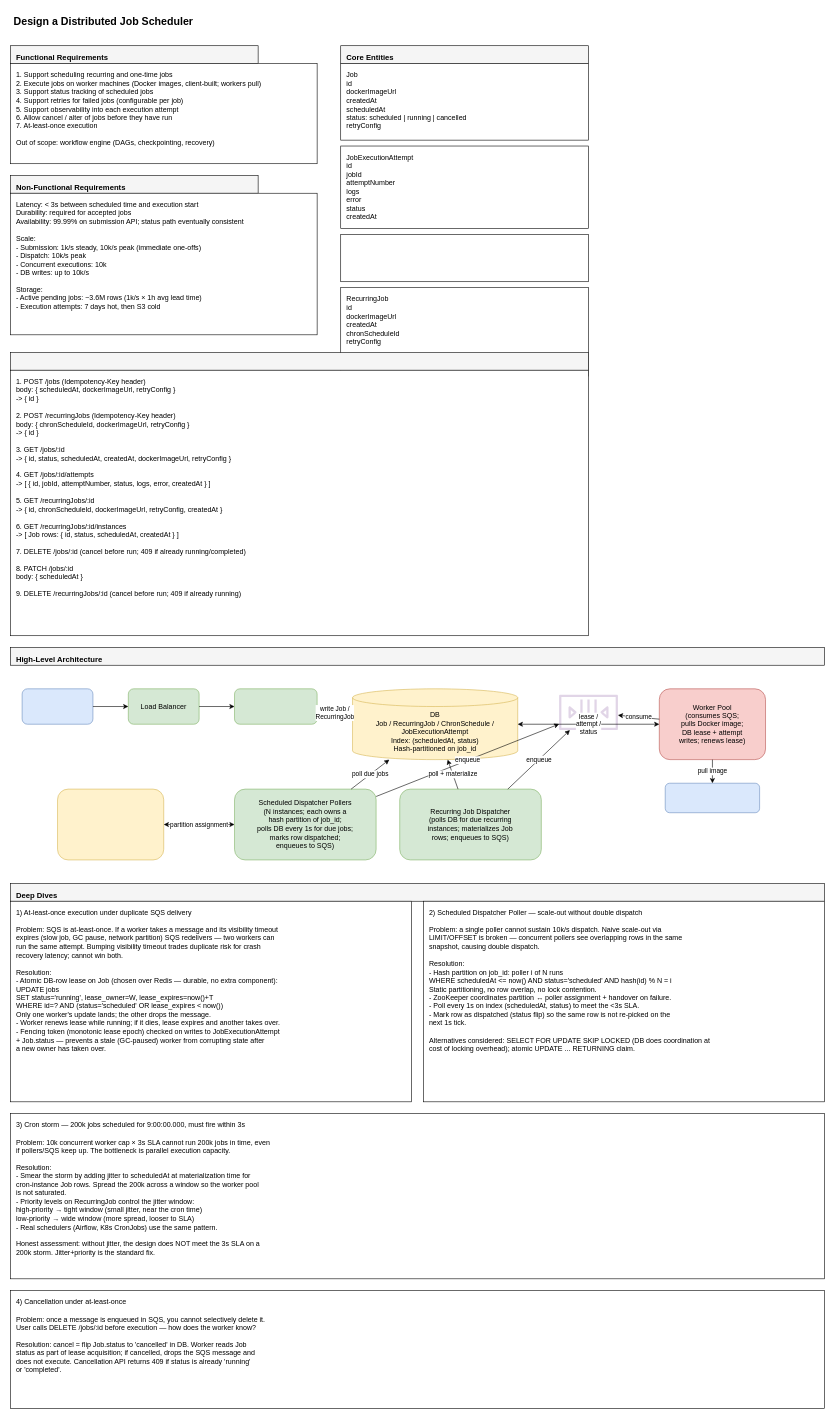
Some shapes in this 835 by 1419 pixel diagram are drawn without their labels. Here are the shapes that lost their labels. From the top down, the centre of each, then its label:
the point at 464,258: ChronSchedule id cron_details
the point at 299,361: API Design (auth: JWT)
the point at 57,706: Internal Services (Clients)
the point at 275,706: Job Service (API)
the point at 588,712: SQS Queue
the point at 712,798: Docker Registry
the point at 110,824: ZooKeeper (partition ↔ poller assignment; failure handover)
